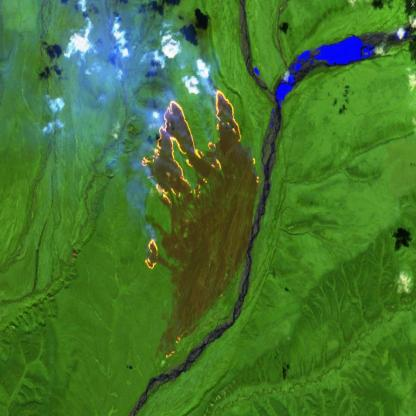fire: (138, 86, 244, 202), (141, 236, 164, 272), (162, 333, 184, 360)
